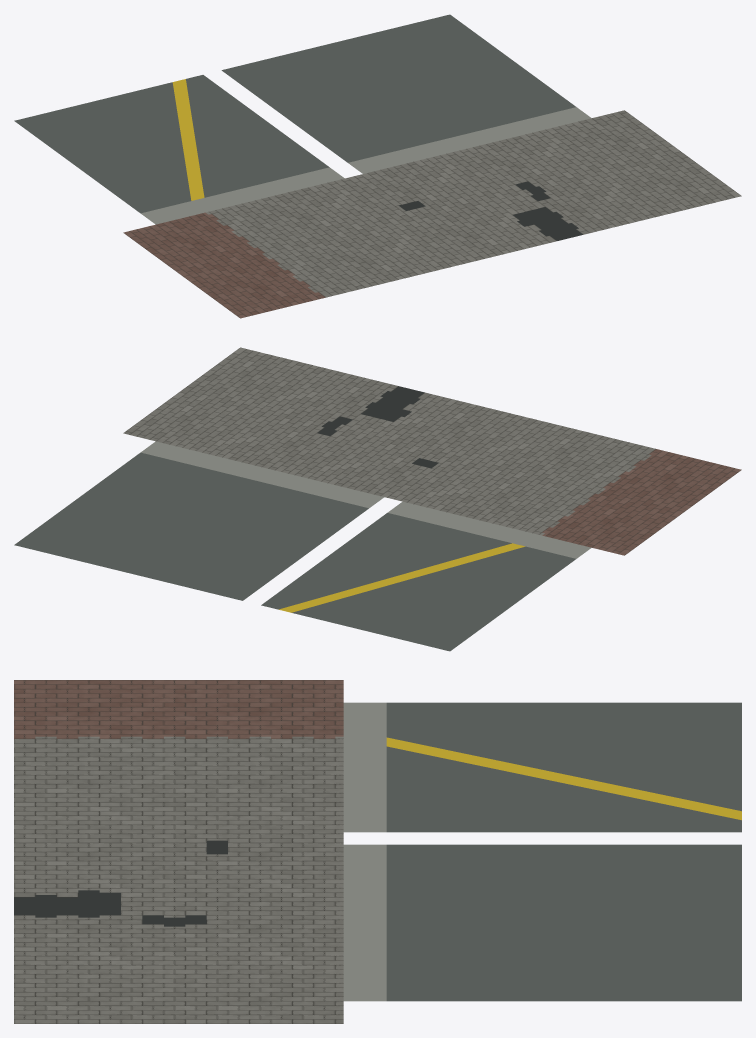
The model's file is floor_2026_appearance_ONLY_v003-qPkNx5P7.glb.
3 renders of one model, top to bottom at view 1: azimuth 30°, elevation 25°; view 2: azimuth 150°, elevation 25°; view 3: azimuth 270°, elevation 25°, orthographic. The views are drawn at different scales.
Parts seen in each view (by area): view 1: floor_2026_appearance_ONLY_v003; view 2: floor_2026_appearance_ONLY_v003; view 3: floor_2026_appearance_ONLY_v003.
Boxes of the visible parts, box(x1,y1,x2,y2) form: floor_2026_appearance_ONLY_v003: box(14, 14, 741, 318); floor_2026_appearance_ONLY_v003: box(14, 347, 741, 651); floor_2026_appearance_ONLY_v003: box(14, 680, 741, 1023).
Size of the model in its own units: 11.4 by 0 by 10.2.
Materials: 6 (2 with a texture image).
